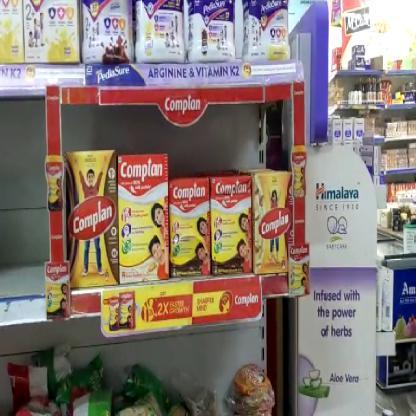Complan Kesar Badam: (254, 172, 293, 276)
Complan Royal Chocolate: (170, 177, 212, 277)
